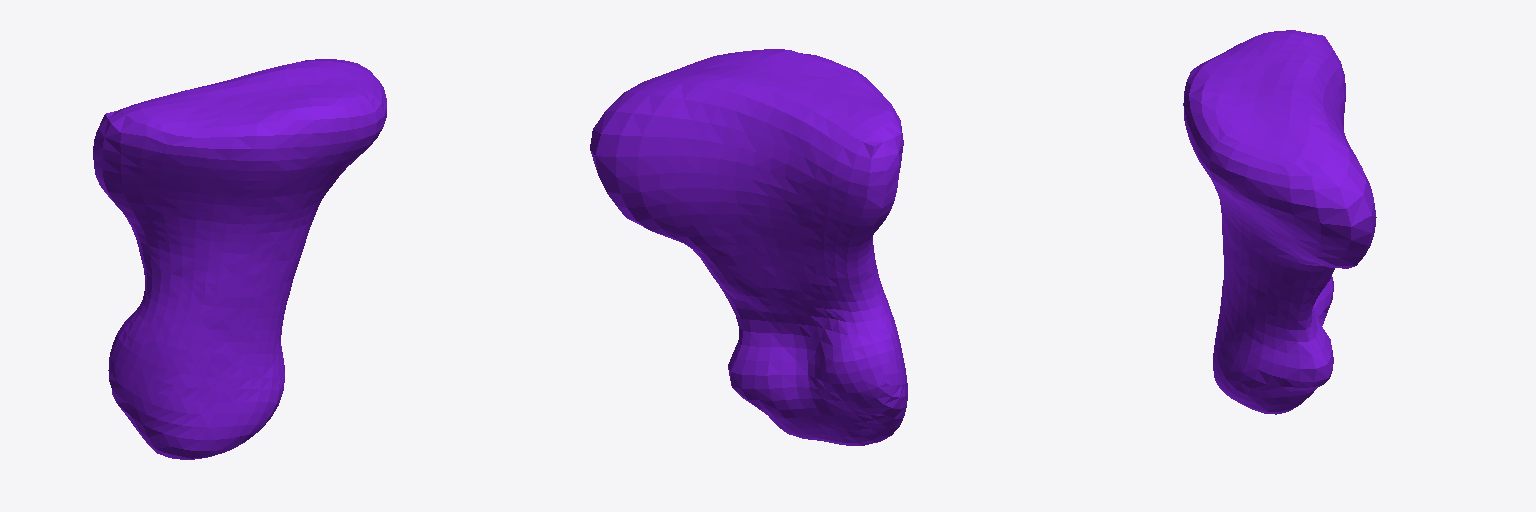
The model's file is DistalPhalanx_1.obj.
3 renders of one model, left to right at view 1: azimuth 30°, elevation 25°; view 2: azimuth 150°, elevation 25°; view 3: azimuth 270°, elevation 25°, orthographic.
Visible parts, largest first — view 1: Object_0DistalPhalanx_1; view 2: Object_0DistalPhalanx_1; view 3: Object_0DistalPhalanx_1.
Part boxes in pixels (bbox=[...]): Object_0DistalPhalanx_1: bbox=[93, 59, 386, 459]; Object_0DistalPhalanx_1: bbox=[590, 49, 907, 445]; Object_0DistalPhalanx_1: bbox=[1183, 30, 1376, 414].
Size of the model in its own units: 21.46 by 25.04 by 12.59.